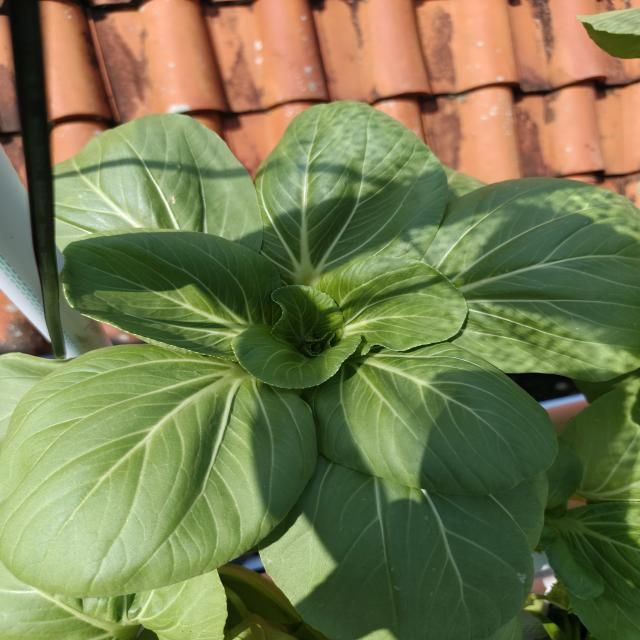daun-pakcoy: (0, 346, 317, 597), (260, 455, 543, 640), (424, 178, 640, 381), (306, 342, 557, 495), (255, 101, 448, 286), (53, 115, 262, 251), (62, 229, 280, 359), (317, 256, 467, 356), (233, 285, 364, 388), (0, 353, 68, 449), (271, 285, 320, 350), (442, 164, 486, 203), (399, 215, 435, 250)
